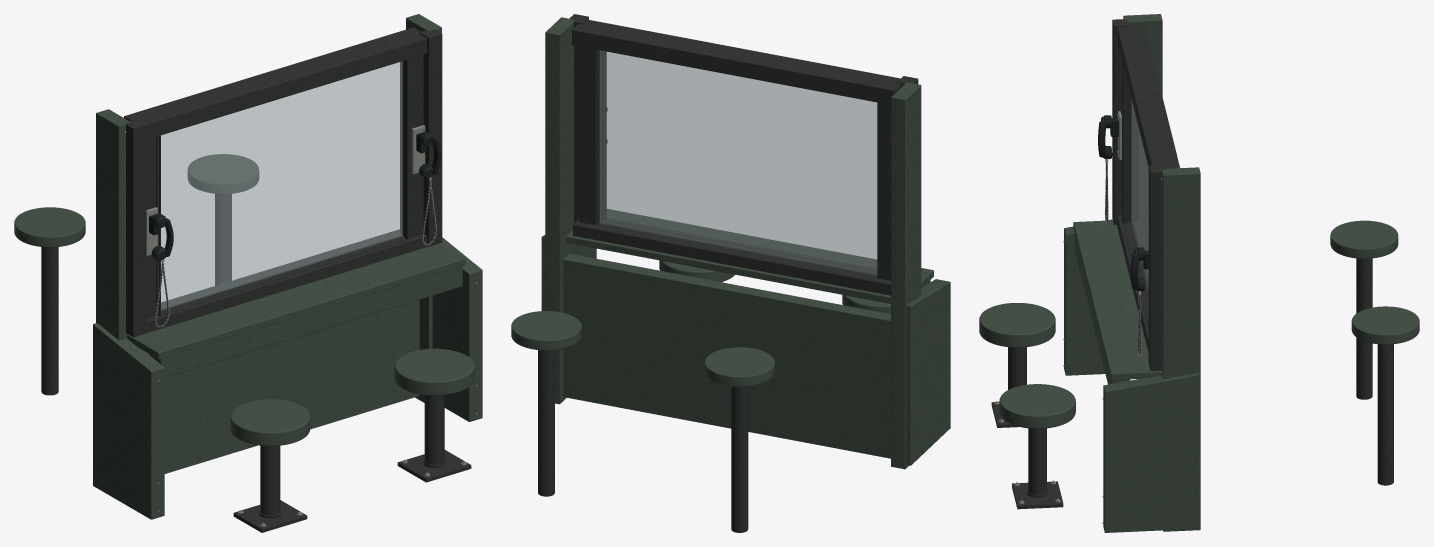
The model's file is visitation_booth.glb.
3 renders of one model, left to right at view 1: azimuth 30°, elevation 25°; view 2: azimuth 150°, elevation 25°; view 3: azimuth 270°, elevation 25°, orthographic. The views are drawn at different scales.
Parts seen in each view (by area): view 1: PaintedBoothCabinet, SecurityGlassPane, SteelPartitionFrame, RoundEnamelSeat_R, RoundEnamelSeat_L, OppositePedestal_L, StoolPedestalAssembly_R, StoolPedestalAssembly_L, OppositeSeat_L, OppositeSeat_R, OppositePedestal_R; view 2: PaintedBoothCabinet, SecurityGlassPane, SteelPartitionFrame, OppositePedestal_L, OppositePedestal_R, OppositeSeat_L, OppositeSeat_R, RoundEnamelSeat_R, RoundEnamelSeat_L; view 3: PaintedBoothCabinet, SteelPartitionFrame, RoundEnamelSeat_L, RoundEnamelSeat_R, OppositePedestal_R, StoolPedestalAssembly_R, OppositeSeat_R, OppositeSeat_L, SecurityGlassPane, OppositePedestal_L, StoolPedestalAssembly_L.
Part boxes in pixels (x1=…): PaintedBoothCabinet: x1=93, y1=14, x2=482, y2=519; SecurityGlassPane: x1=161, y1=61, x2=402, y2=310; SteelPartitionFrame: x1=124, y1=27, x2=442, y2=337; RoundEnamelSeat_R: x1=394, y1=348, x2=474, y2=395; RoundEnamelSeat_L: x1=230, y1=399, x2=310, y2=445; OppositePedestal_L: x1=41, y1=247, x2=58, y2=395; StoolPedestalAssembly_R: x1=397, y1=395, x2=471, y2=482; StoolPedestalAssembly_L: x1=233, y1=445, x2=307, y2=532; OppositeSeat_L: x1=14, y1=207, x2=85, y2=247; OppositeSeat_R: x1=187, y1=154, x2=259, y2=193; OppositePedestal_R: x1=215, y1=193, x2=231, y2=285; PaintedBoothCabinet: x1=541, y1=17, x2=950, y2=469; SecurityGlassPane: x1=599, y1=50, x2=877, y2=275; SteelPartitionFrame: x1=569, y1=14, x2=918, y2=295; OppositePedestal_L: x1=731, y1=386, x2=748, y2=532; OppositePedestal_R: x1=538, y1=350, x2=554, y2=496; OppositeSeat_L: x1=704, y1=347, x2=774, y2=386; OppositeSeat_R: x1=511, y1=311, x2=581, y2=350; RoundEnamelSeat_R: x1=659, y1=260, x2=734, y2=282; RoundEnamelSeat_L: x1=842, y1=295, x2=890, y2=313; PaintedBoothCabinet: x1=1064, y1=14, x2=1200, y2=532; SteelPartitionFrame: x1=1112, y1=19, x2=1179, y2=370; RoundEnamelSeat_L: x1=979, y1=303, x2=1055, y2=347; RoundEnamelSeat_R: x1=999, y1=384, x2=1075, y2=428; OppositePedestal_R: x1=1377, y1=344, x2=1393, y2=485; StoolPedestalAssembly_R: x1=1012, y1=428, x2=1063, y2=509; OppositeSeat_R: x1=1351, y1=306, x2=1419, y2=344; OppositeSeat_L: x1=1330, y1=220, x2=1398, y2=258; SecurityGlassPane: x1=1131, y1=100, x2=1148, y2=288; OppositePedestal_L: x1=1356, y1=258, x2=1372, y2=399; StoolPedestalAssembly_L: x1=991, y1=347, x2=1026, y2=427.
Size of the model in its own units: 2.44 by 2.42 by 2.71.
17 materials, 10 textured.
